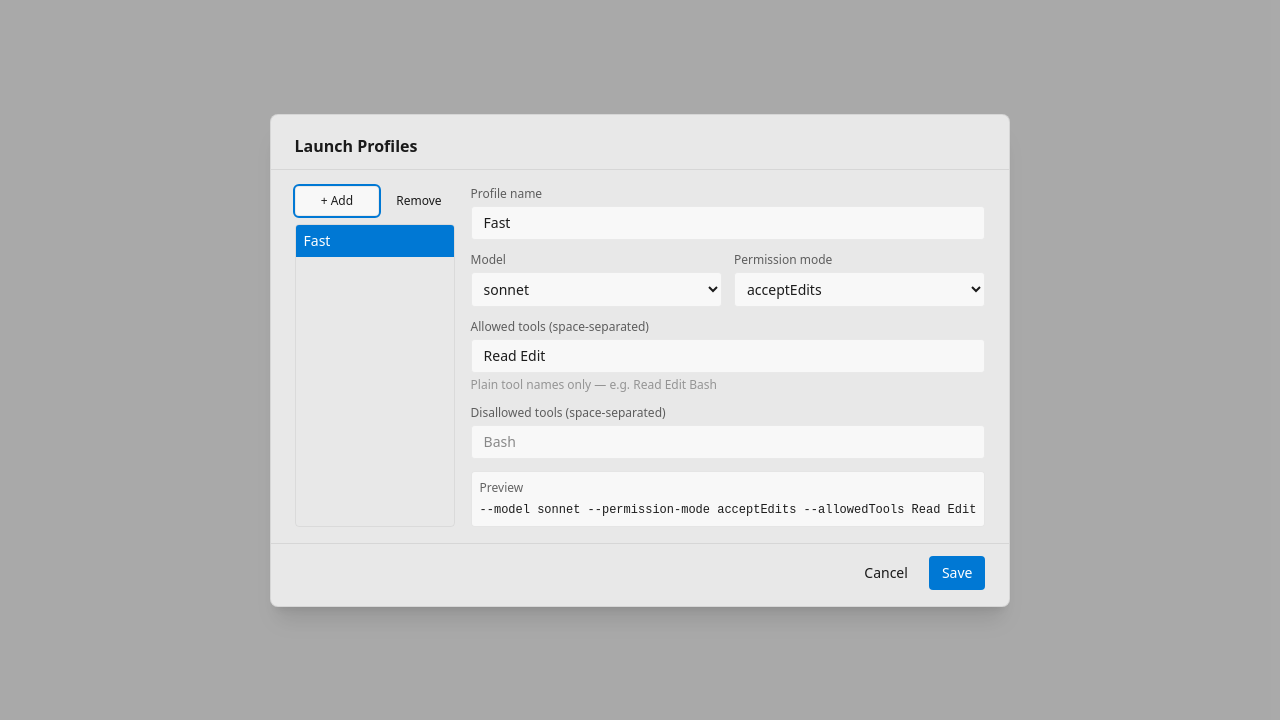
Scenario: ProfileManagerDialog › can remove a profile
This screenshot has width=1280, height=720.
Check: the option "Fast" is shown, box [296,224,454,256]
Click the button "Remove" at (419, 200), box [383,186,454,216]
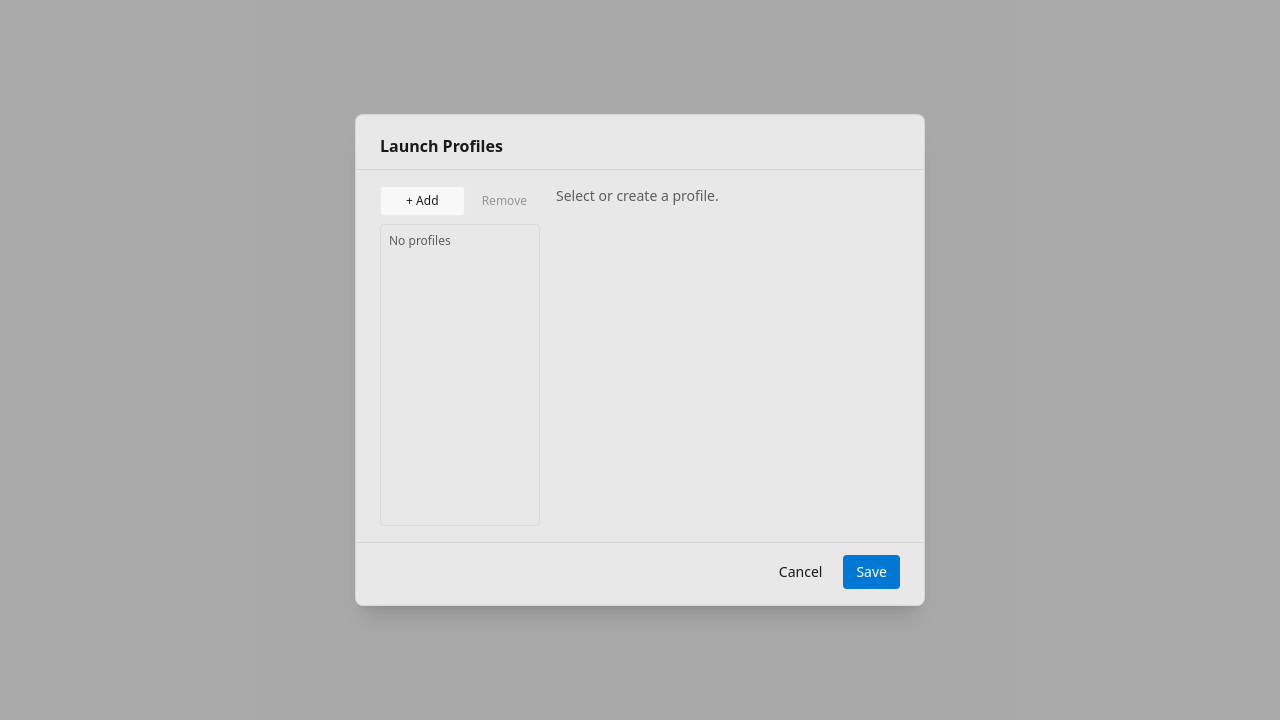
Check: the option "Fast" is gone
